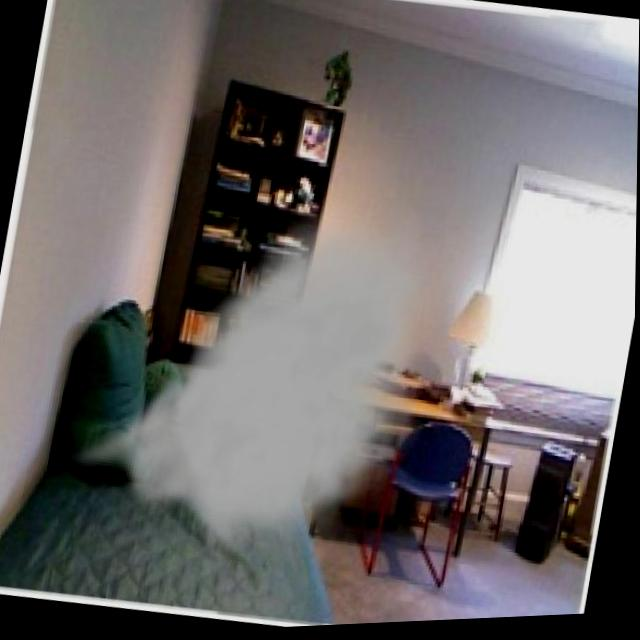no_helmet: (43, 169, 458, 585)
